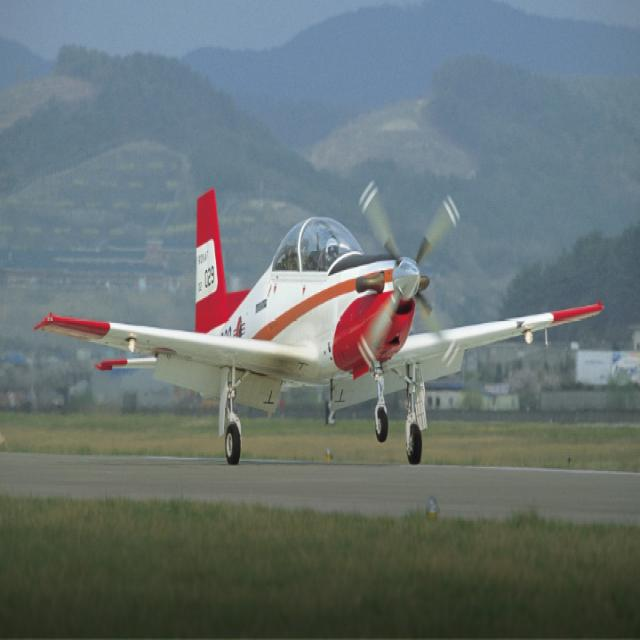KT-1: (29, 175, 604, 464)
